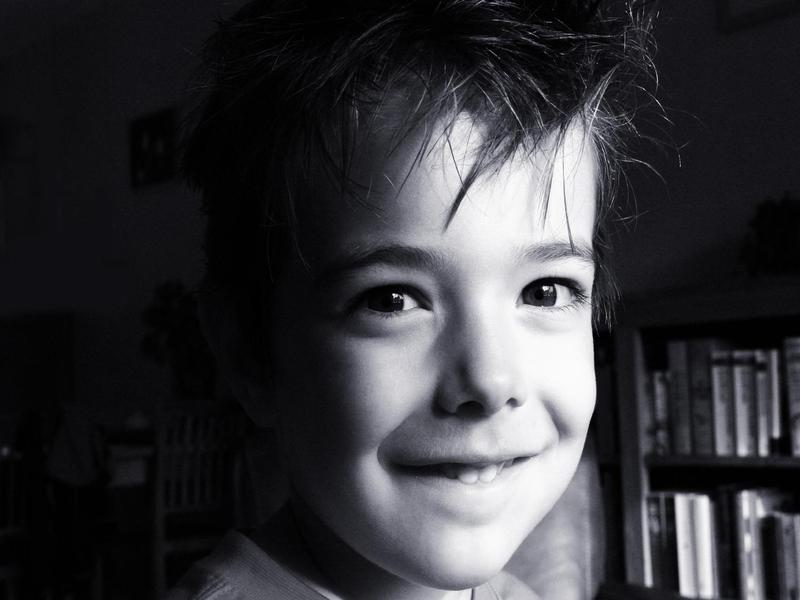person: (176, 1, 665, 600)
